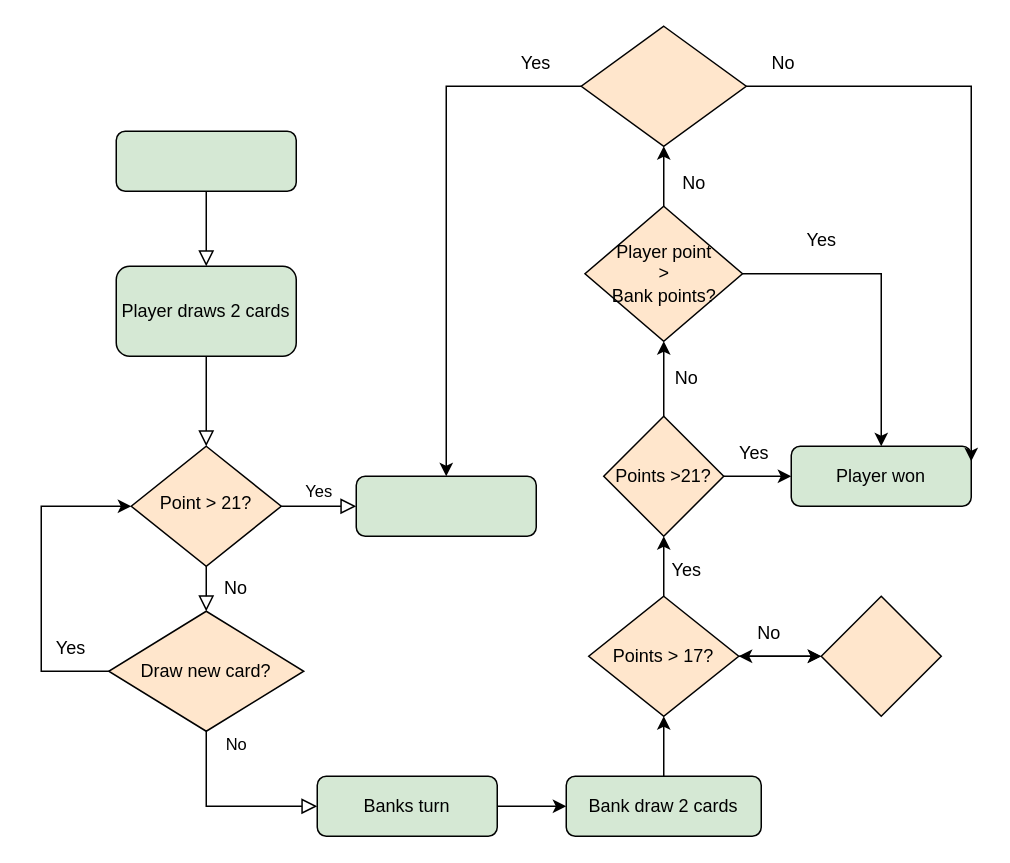
Some shapes in this 1010 by 863 pixel diagram are drawn without their labels. The shapes that lost their labels are listed below. From the top down, each one's centre as x and y in pixels, then its label:
(663,85): Points are equal?
(205,160): Start Game
(445,505): Player Lost
(880,655): Draw new card
